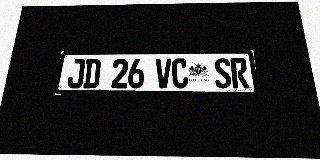2: (111, 59, 129, 88)
6: (128, 59, 144, 88)
C: (172, 58, 188, 88)
D: (83, 59, 101, 88)
J: (67, 59, 85, 88)
R: (230, 58, 249, 88)
S: (213, 58, 232, 88)
V: (155, 58, 171, 88)
